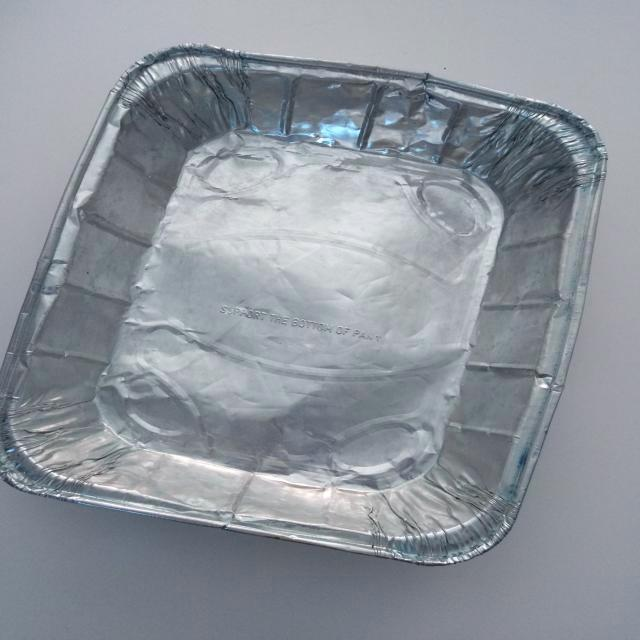metal: (2, 36, 598, 587)
